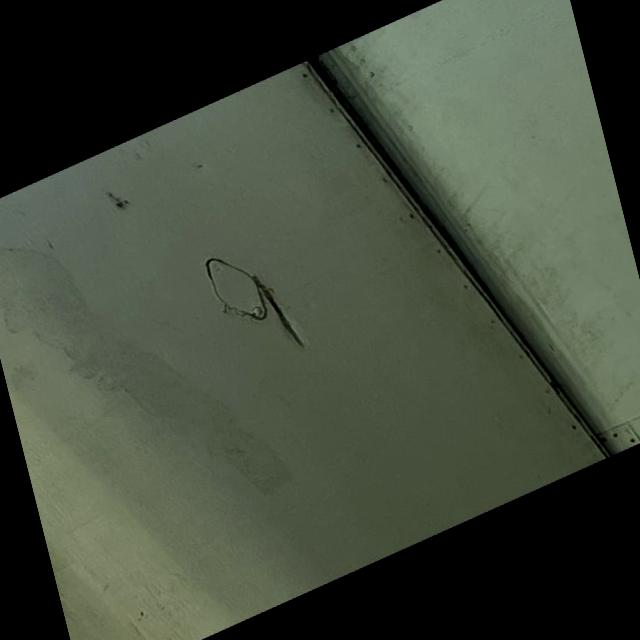crack: (225, 260, 334, 364)
